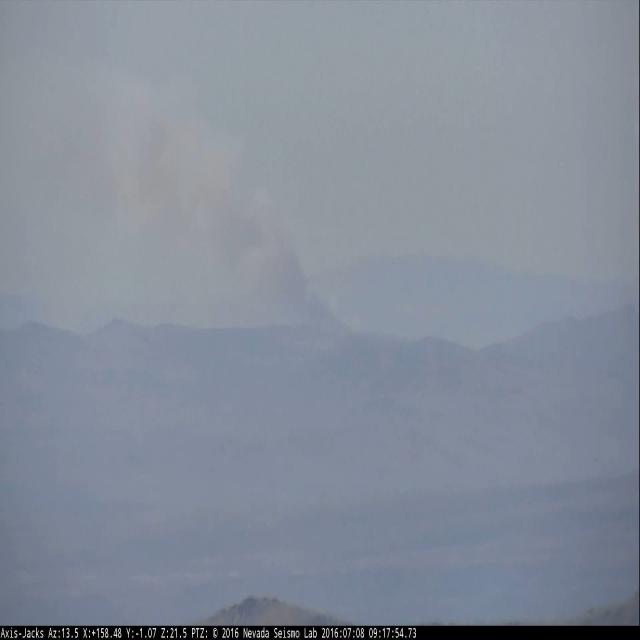smoke: (104, 81, 350, 336)
